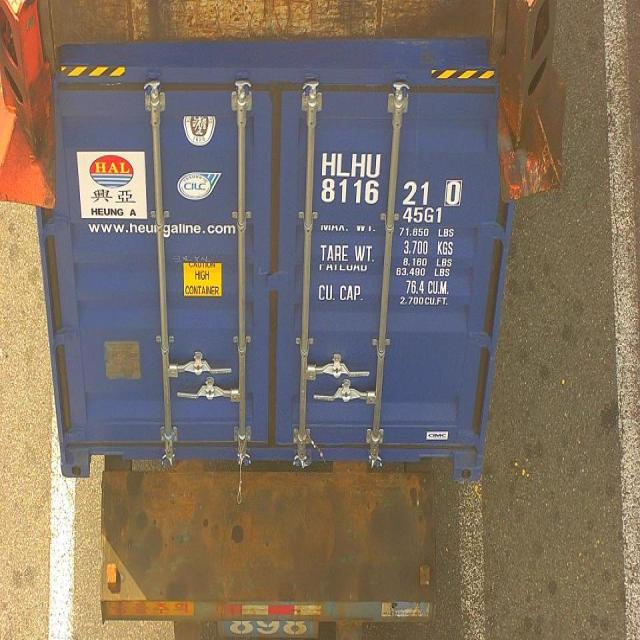ISO: (402, 210, 446, 224)
container_number: (318, 147, 466, 205)
